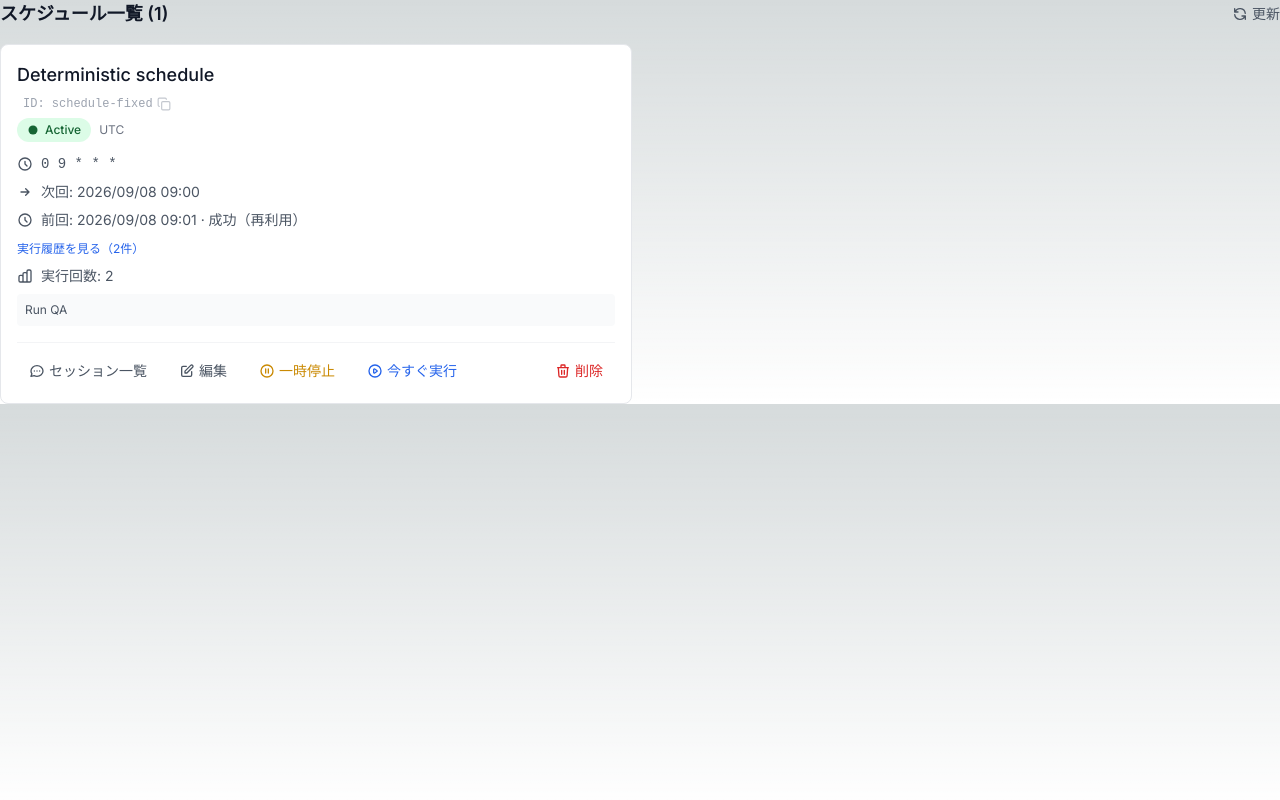
Test case: ScheduleListView acceptance contract › shows the latest failure and retained execution history
Expected: the text "前回: 2026/09/08 09:01 · 成功（再利用）" is shown, [41,210,307,230]
Click the button "実行履歴を見る（2件）" at (81, 249), box [17,241,144,257]
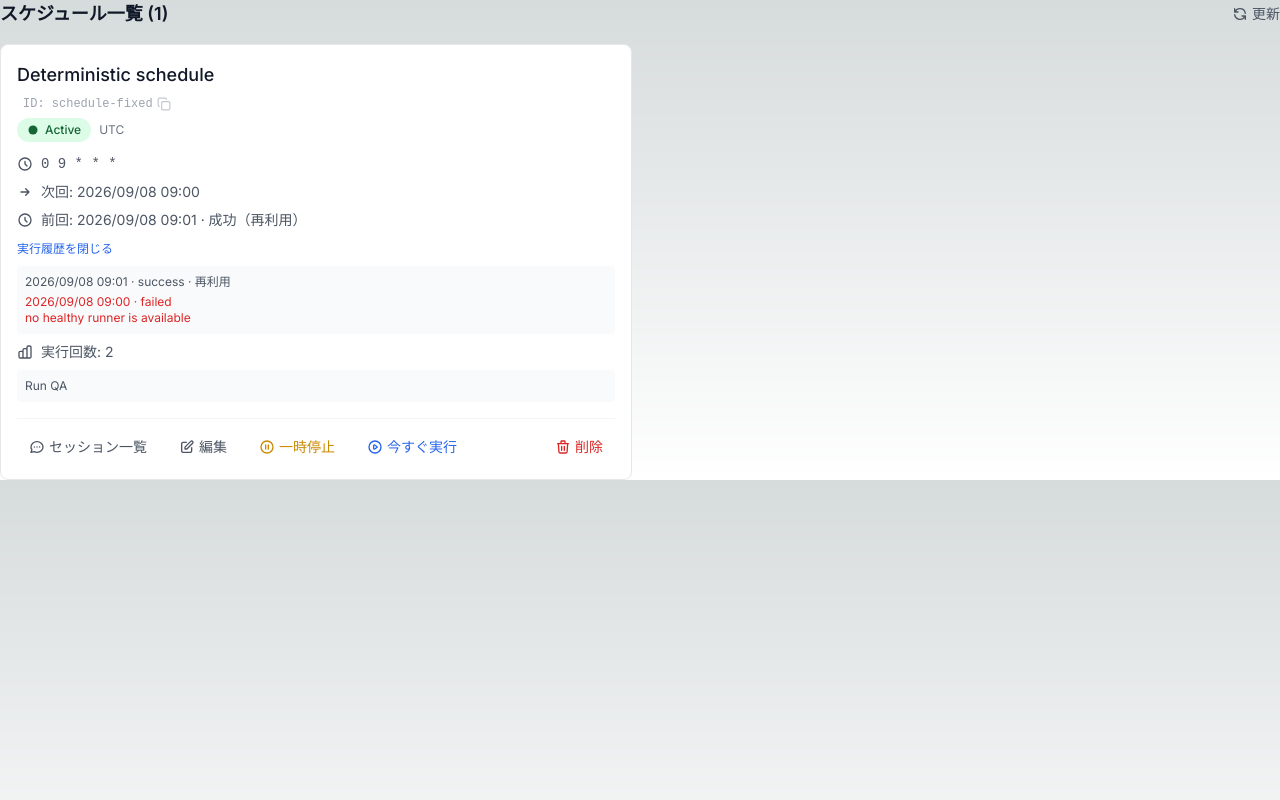
Result: the text "no healthy runner is available" is shown at [25,310,191,325]
Result: the button "実行履歴を閉じる" is shown at [17,241,113,257]
